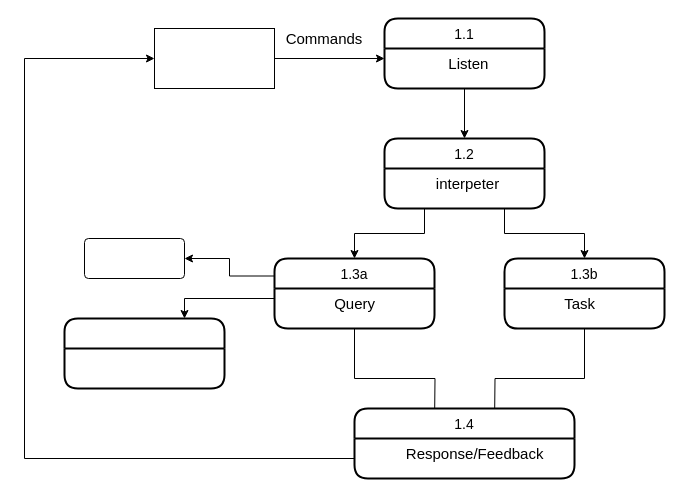
Image size: 683x496. Some labels were removed from this diagram. Here are the shapes that lost their labels. From the top down, the centre of each, then its label:
At point 214,58: "User".
At point 134,258: "DataBase".
At point 144,353: "Web Scraper".
